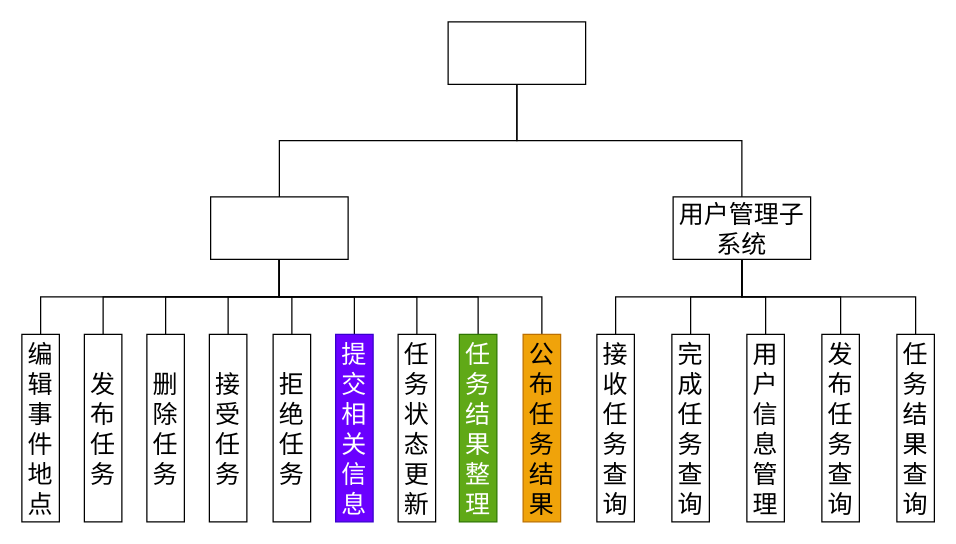
Image size: 956x544. Some labels were removed from this diagram. The shapes that lost their labels are listed below. From the top down, each one's centre as x and y in pixels, then its label:
(516,52): 不文明人追查系统
(278,227): 任务管理子系统
